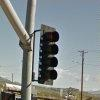Traffic light: (36, 13, 60, 89)
